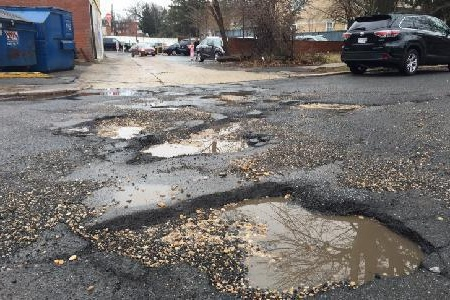pothole: (80, 178, 438, 297), (130, 114, 274, 167), (71, 111, 152, 140), (299, 98, 372, 109), (217, 90, 249, 102)
